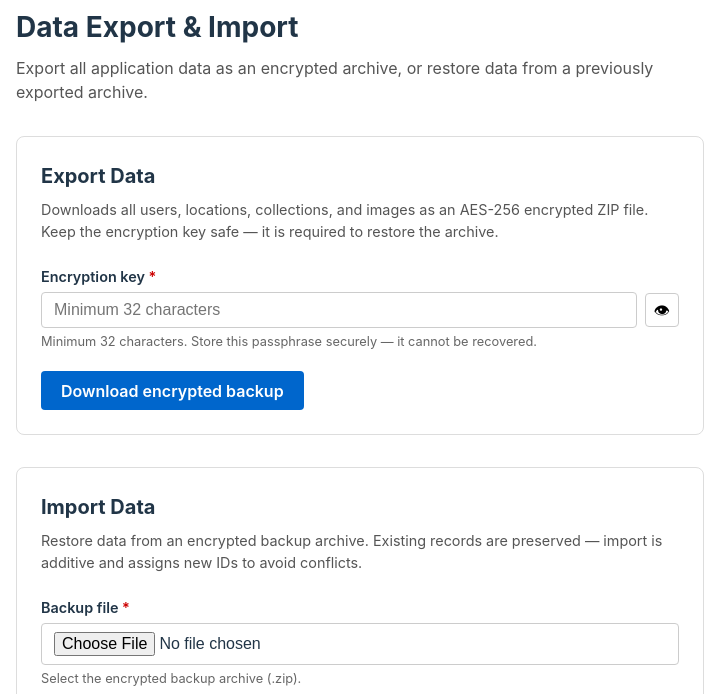
Test case: ImportExportPage › Export form validation › shows error when encryption key is empty
Click the button "Download encrypted backup" at (172, 391), box x1=41 y1=371 x2=304 y2=410
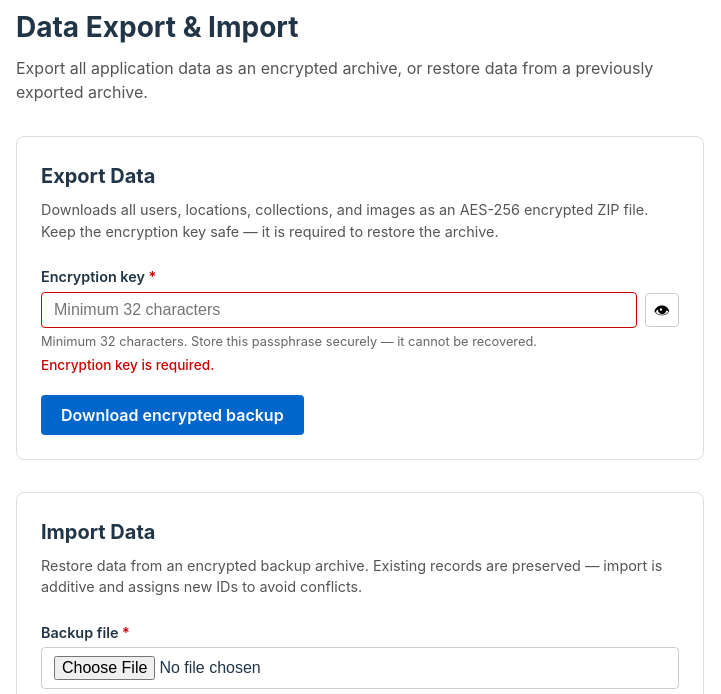
Check: the text "Encryption key is required." is shown, box x1=41 y1=357 x2=214 y2=373
